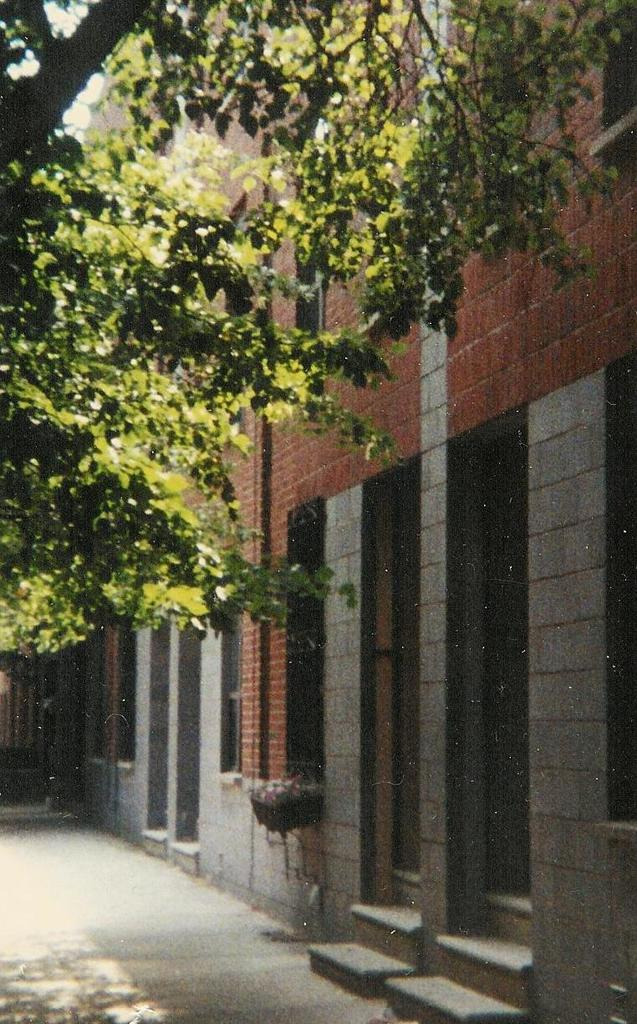Tree: (0, 0, 636, 652)
